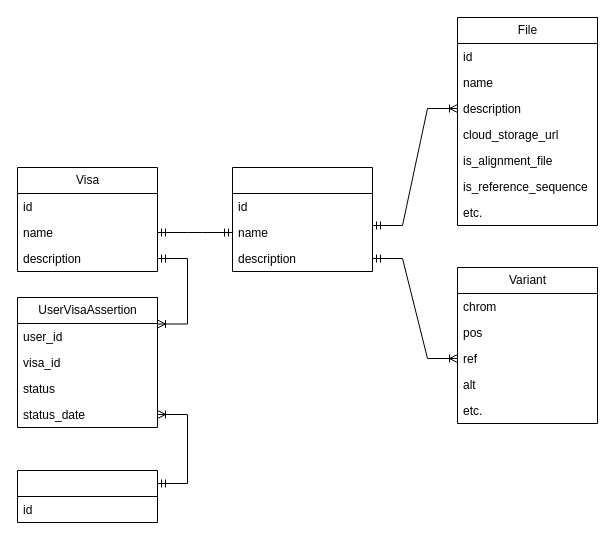
Some shapes in this 615 by 543 pixel diagram are drawn without their labels. The shapes that lost their labels are listed below. From the top down, each one's box as (x1, y1, x2, y2) in pixels, then its label:
(232, 166, 372, 272): Dataset
(16, 470, 158, 522): User
